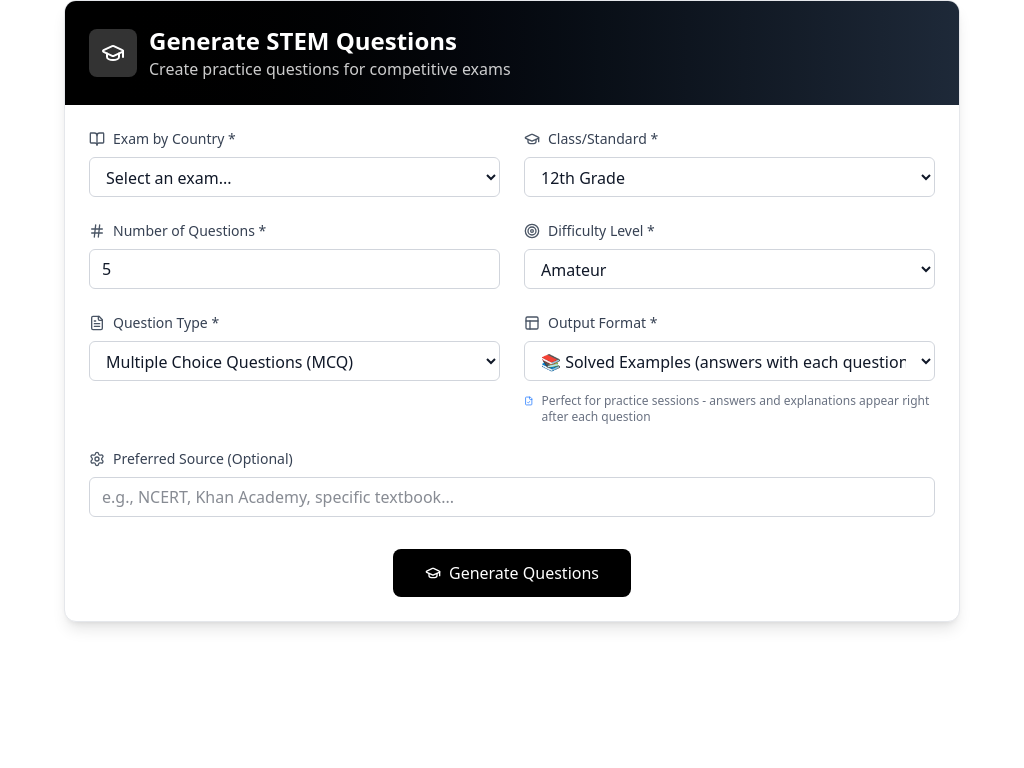
Test: QuestionForm Component Tests › should validate count boundaries
# Select exam first to avoid that validation error
Select "🇮🇳 JEE (India)" in the dropdown labelled "Exam by Country *": (294, 177) x1=89 y1=157 x2=500 y2=197
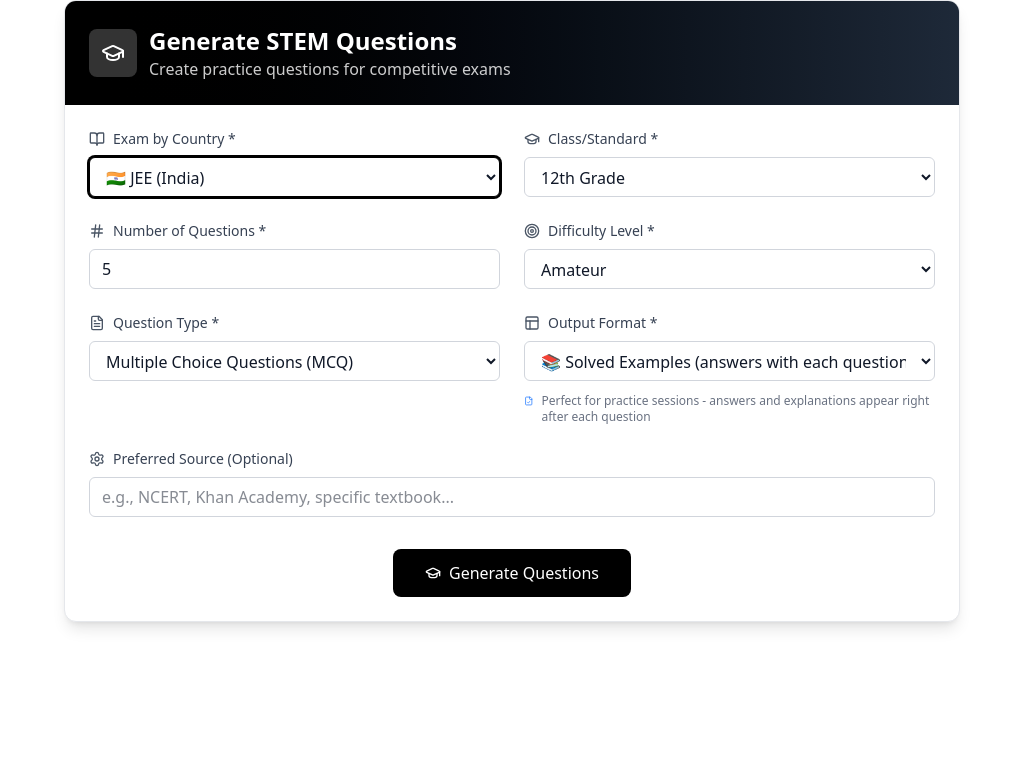
Replace the text in the number field labelled "Number of Questions *" with "0": (294, 269) x1=89 y1=249 x2=500 y2=289
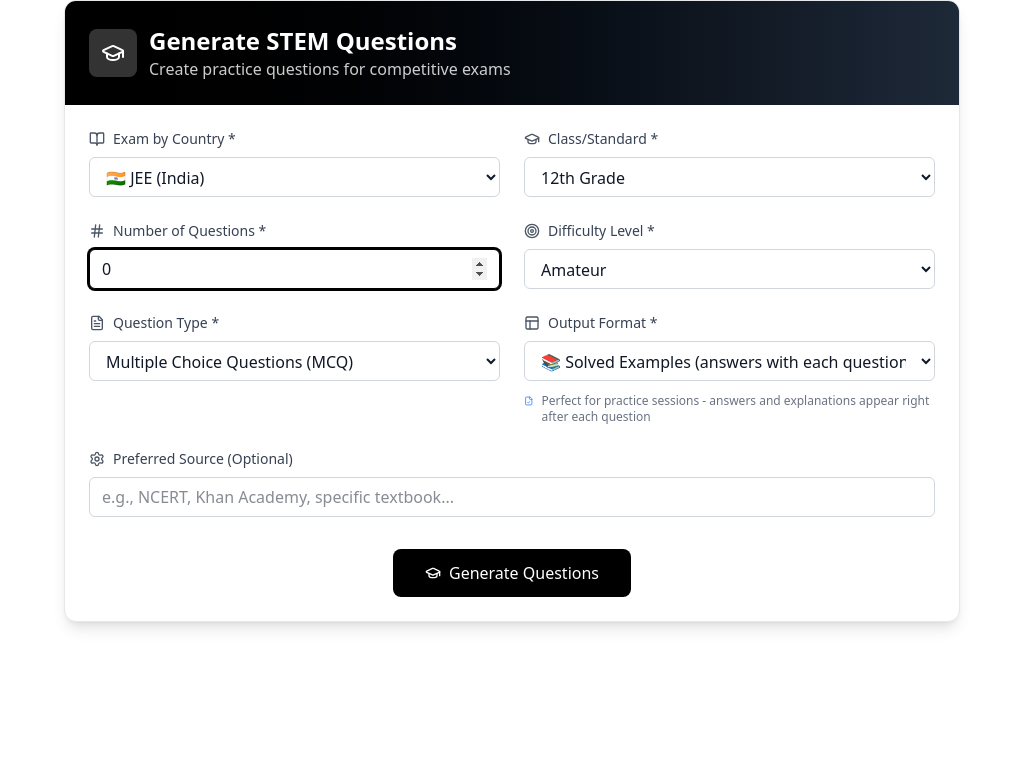
Submit the form with test id "question-form", box x1=65 y1=105 x2=959 y2=621
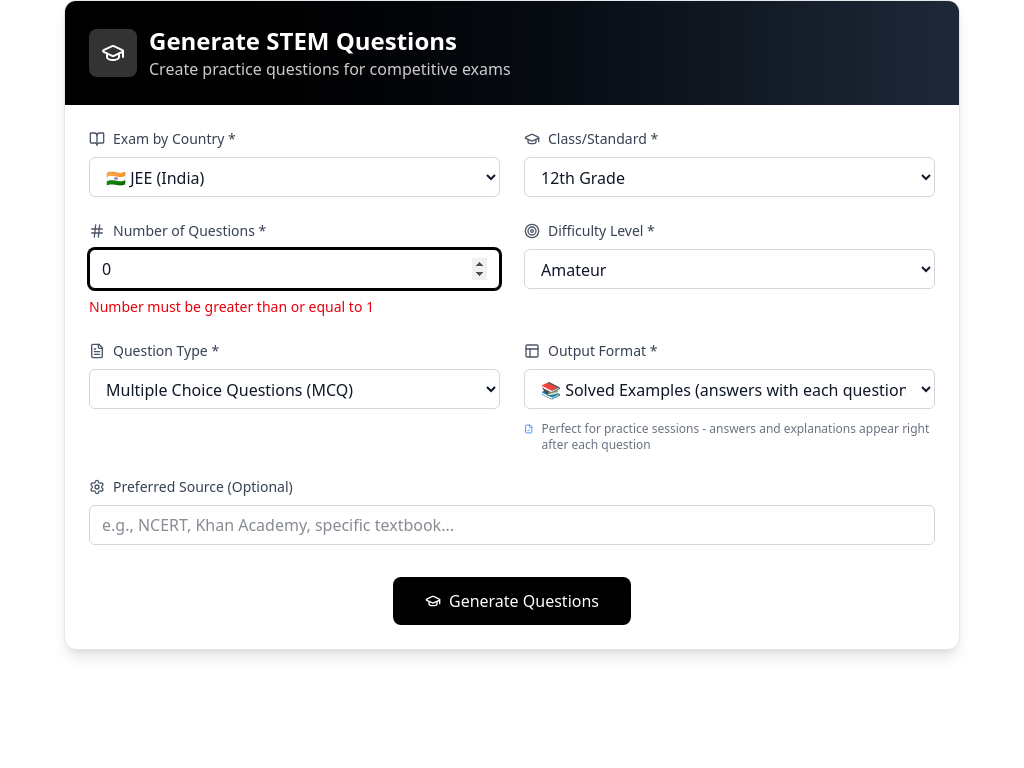
Expected: the text "Number must be greater than or equal to 1" is shown, x1=89 y1=297 x2=374 y2=316
Replace the text in the number field labelled "Number of Questions *" with "51": (294, 269) x1=89 y1=249 x2=500 y2=289
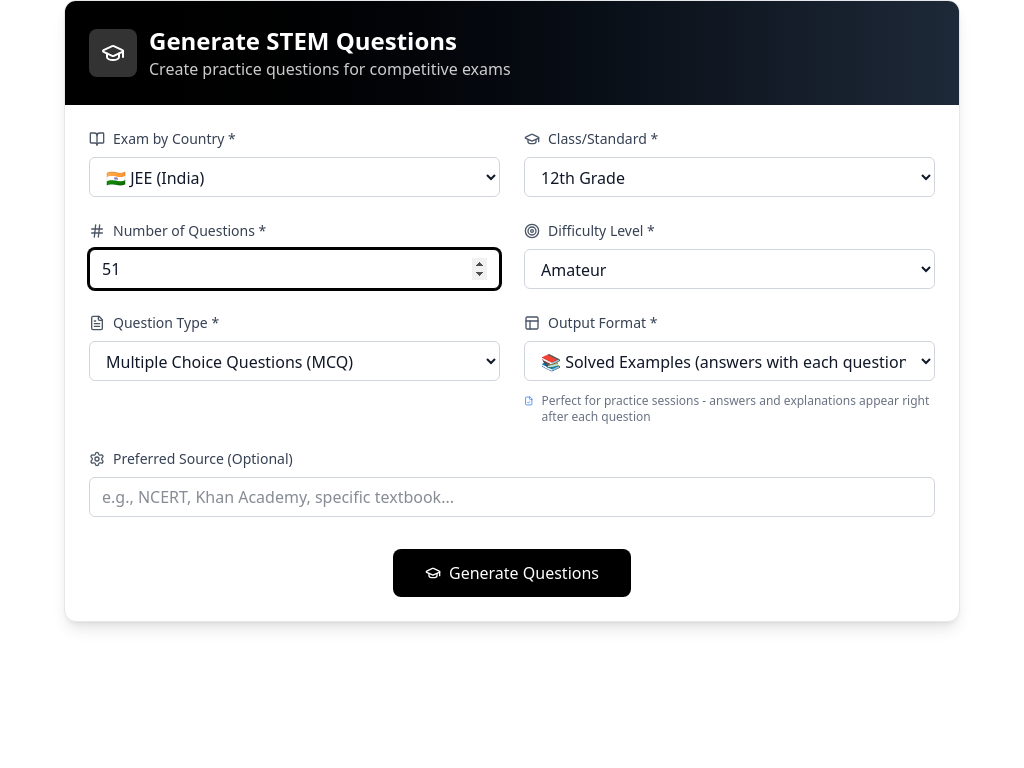
Submit the form with test id "question-form", box x1=65 y1=105 x2=959 y2=621
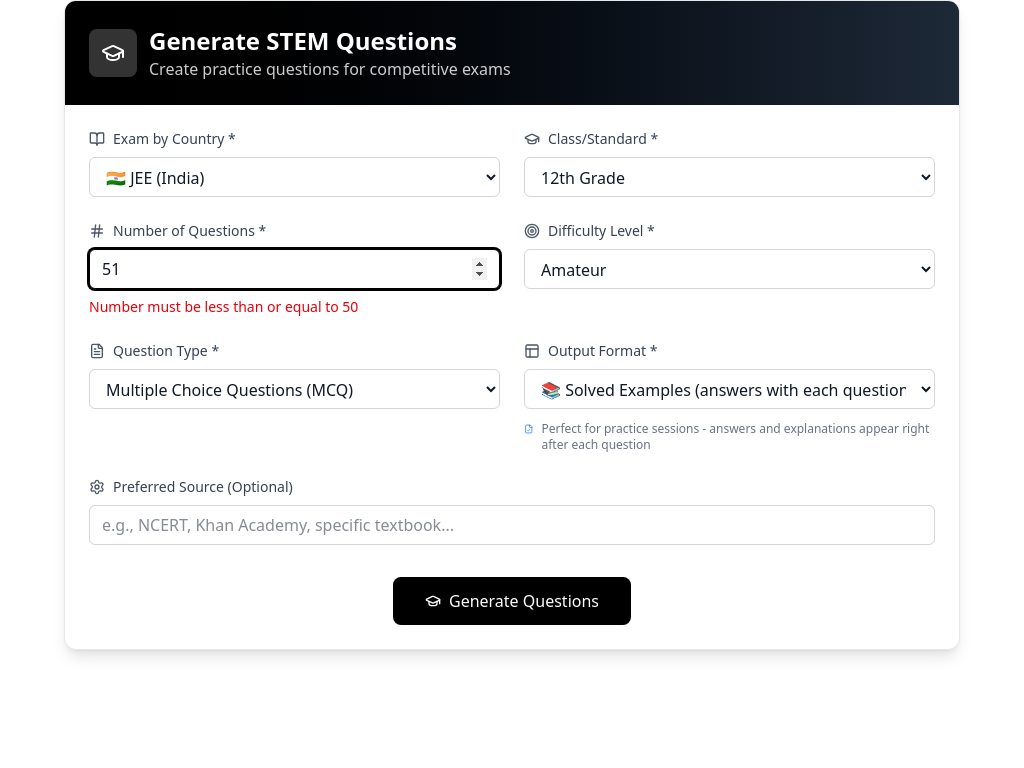
Expected: the text "Number must be less than or equal to 50" is shown, x1=89 y1=297 x2=358 y2=316
